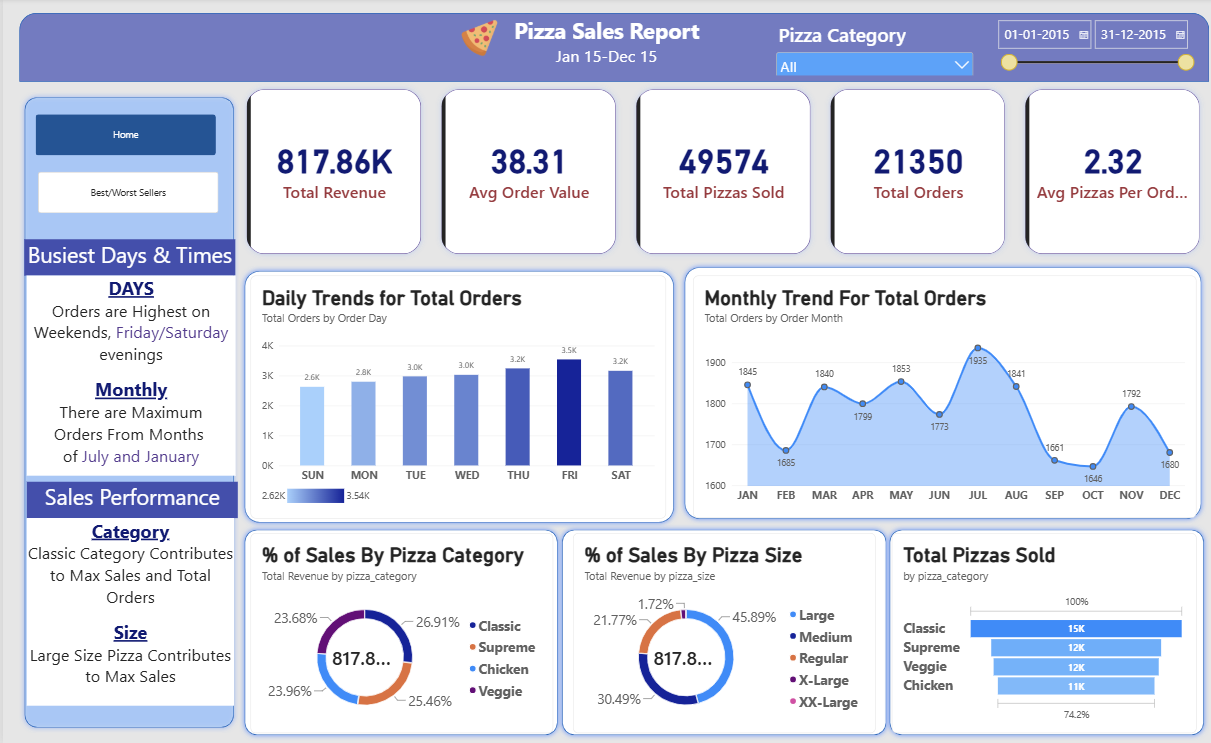

This screenshot's page, from the dashboard's own definition file:
{"tool":"powerbi","page":{"name":"Home","canvas":[1800,1100],"ordinal":0},"visuals":[{"type":"cardVisual","fields":{"Data":["pizza_sales_excel_file.Total Revenue","pizza_sales_excel_file.Avg Order Value","pizza_sales_excel_file.Total Pizzas Sold","pizza_sales_excel_file.Total Orders","pizza_sales_excel_file.Avg Pizzas Per Order"]},"box":[348.4,123.5,1430.5,265.5],"z":0},{"type":"shape","box":[24,22.1,1754.7,101.4],"z":1000},{"type":"textbox","box":[672.8,25.8,435,92.2],"z":2000},{"type":"image","box":[670.9,31.3,63.3,55.6],"z":3000},{"type":"shape","box":[348.4,394.4,648.8,387.1],"z":4000},{"type":"columnChart","title":"Daily Trends for Total Orders","fields":{"Category":["pizza_sales_excel_file.Order Day"],"Y":["pizza_sales_excel_file.Total Orders"]},"box":[364.9,409.2,613.1,358.3],"z":5000},{"type":"shape","box":[997.2,388.9,777.8,387.1],"z":6000},{"type":"areaChart","title":"Monthly Trend For Total Orders","fields":{"Category":["pizza_sales_excel_file.Order Month"],"Y":["pizza_sales_excel_file.Total Orders"]},"box":[1017.4,409.2,742.8,357.6],"z":7000},{"type":"shape","box":[348.4,776,477.4,318.9],"z":8000},{"type":"shape","box":[816.5,776,494,318.9],"z":9000},{"type":"shape","box":[1299.4,776,479.2,318.9],"z":10000},{"type":"donutChart","title":"% of Sales By Pizza Category ","fields":{"Category":["pizza_sales_excel_file.pizza_category"],"Y":["pizza_sales_excel_file.Total Revenue"]},"box":[364.9,788.9,446,294.9],"z":11000},{"type":"donutChart","title":"% of Sales By Pizza Size","fields":{"Category":["pizza_sales_excel_file.pizza_size"],"Y":["pizza_sales_excel_file.Total Revenue"]},"box":[840.5,788.9,446,294.9],"z":12000},{"type":"funnel","fields":{"Category":["pizza_sales_excel_file.pizza_category"],"Y":["pizza_sales_excel_file.Total Pizzas Sold"]},"box":[1310.5,788.9,449.7,294.9],"z":13000},{"type":"shape","box":[24,138.2,324.4,945.5],"z":14000},{"type":"textbox","box":[30.9,355.1,311.5,53.5],"z":15000},{"type":"textbox","box":[34.7,409.1,307.8,294.9],"z":15001},{"type":"textbox","box":[34.7,714,311.5,53.5],"z":15002},{"type":"textbox","box":[34.7,766.1,306,276.5],"z":15003},{"type":"slicer","fields":{"Values":["pizza_sales_excel_file.pizza_category"]},"box":[1135.4,35,300.4,79.3],"z":15004},{"type":"slicer","fields":{"Values":["pizza_sales_excel_file.order_date"]},"box":[1459.8,25.8,300.4,99.5],"z":15005},{"type":"pageNavigator","box":[48.2,171.7,266.3,61.7],"z":15006},{"type":"pageNavigator","box":[52.1,256.6,266.3,61.7],"z":15007}]}

Visuals, with their boxes in screenshot pixels (x1, y1, x2, y2), scaled from the page's 1800x1100 canvas onto the 1211x743 screenshot:
cardVisual - pizza_sales_excel_file.Total Revenue x pizza_sales_excel_file.Avg Order Value: bbox=(234, 83, 1197, 263)
shape: bbox=(16, 15, 1197, 83)
textbox: bbox=(453, 17, 745, 80)
image: bbox=(451, 21, 494, 59)
shape: bbox=(234, 266, 671, 528)
"Daily Trends for Total Orders" columnChart: bbox=(245, 276, 658, 518)
shape: bbox=(671, 263, 1194, 524)
"Monthly Trend For Total Orders" areaChart: bbox=(684, 276, 1184, 518)
shape: bbox=(234, 524, 556, 740)
shape: bbox=(549, 524, 882, 740)
shape: bbox=(874, 524, 1197, 740)
"% of Sales By Pizza Category " donutChart: bbox=(245, 533, 546, 732)
"% of Sales By Pizza Size" donutChart: bbox=(565, 533, 866, 732)
funnel - pizza_sales_excel_file.pizza_category x pizza_sales_excel_file.Total Pizzas Sold: bbox=(882, 533, 1184, 732)
shape: bbox=(16, 93, 234, 732)
textbox: bbox=(21, 240, 230, 276)
textbox: bbox=(23, 276, 230, 476)
textbox: bbox=(23, 482, 233, 518)
textbox: bbox=(23, 517, 229, 704)
slicer - pizza_sales_excel_file.pizza_category: bbox=(764, 24, 966, 77)
slicer - pizza_sales_excel_file.order_date: bbox=(982, 17, 1184, 85)
pageNavigator: bbox=(32, 116, 212, 158)
pageNavigator: bbox=(35, 173, 214, 215)
